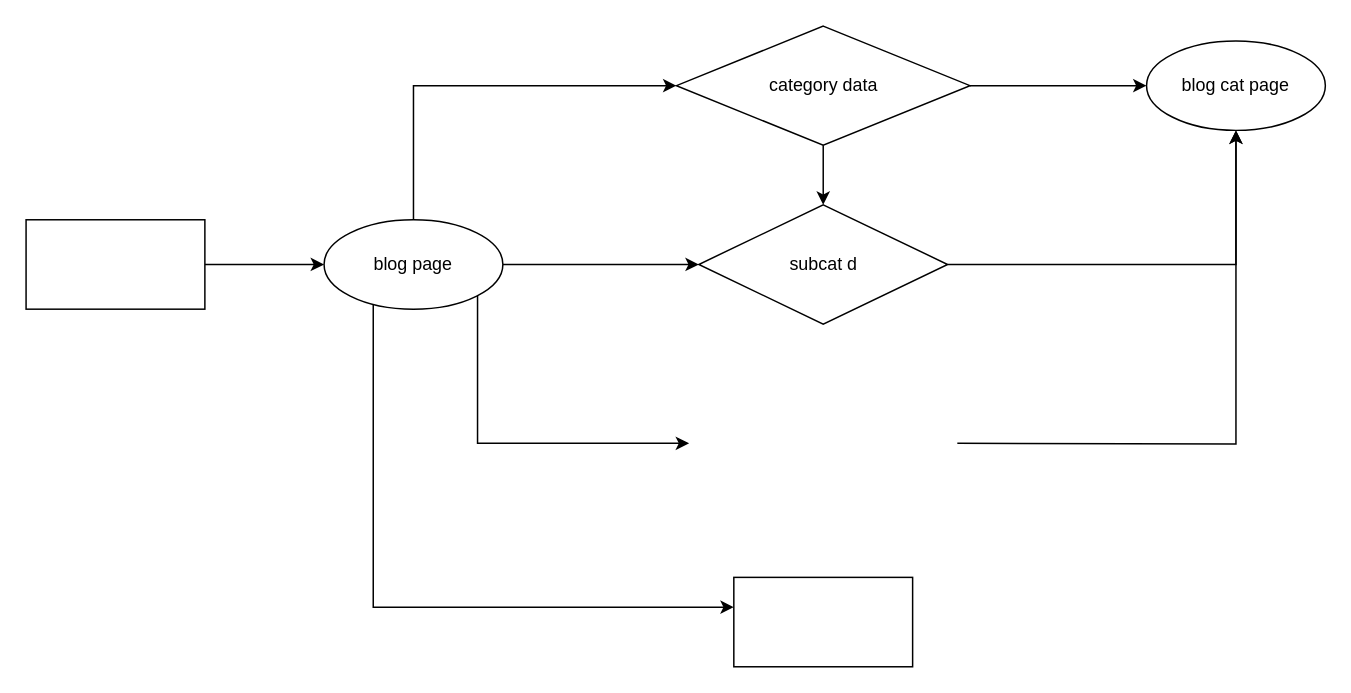
This 1351x693 diagram has some shape labels left out. Each missing label, with the centre of its shape:
author page: point 822,621
website: point 115,263
